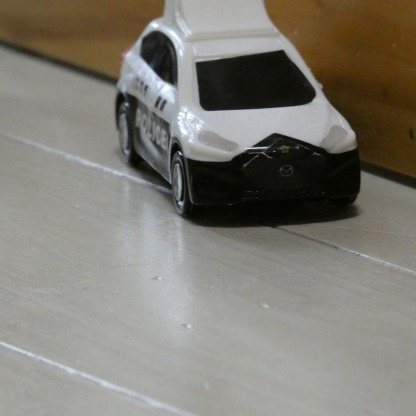car: (115, 0, 362, 224)
